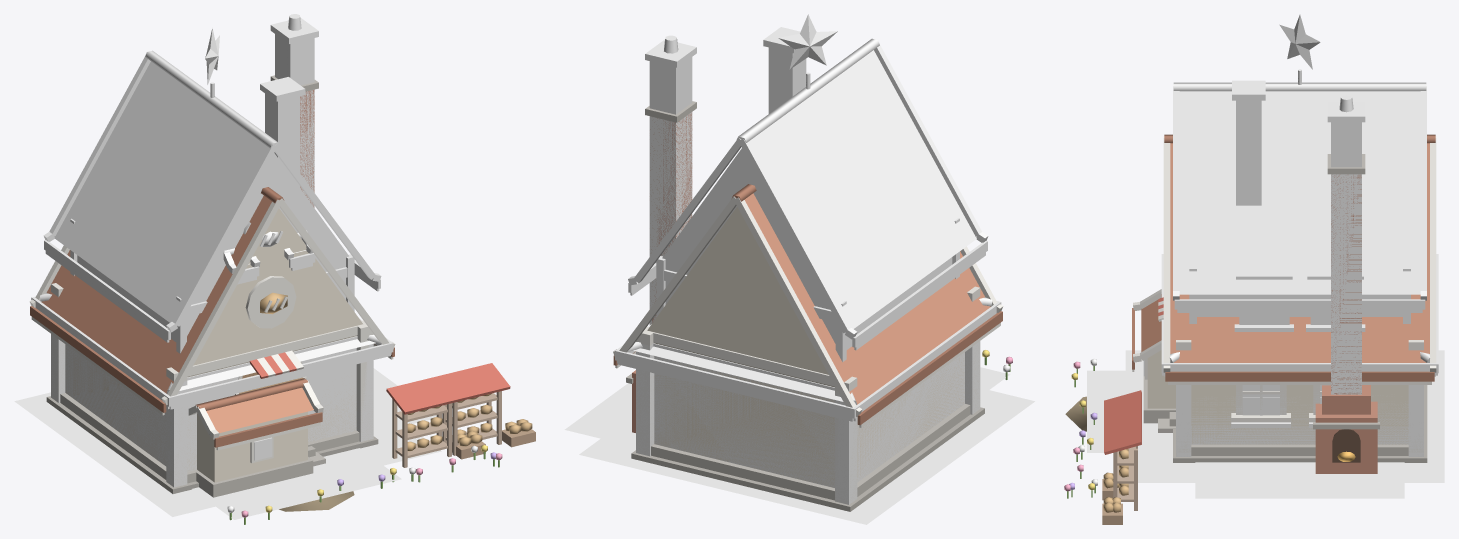
The model's file is bakery_3.glb.
3 renders of one model, left to right at view 1: azimuth 30°, elevation 25°; view 2: azimuth 150°, elevation 25°; view 3: azimuth 270°, elevation 25°, orthographic. The views are drawn at different scales.
Visible parts, largest first — view 1: when_plan_true, body4, bakery_3, body3; view 2: when_plan_true, body4, bakery_3; view 3: when_plan_true, body4, bakery_3, body3.
Boxes of the visible parts, x1,y1,x2,y2 form: when_plan_true: (31, 14, 393, 487); body4: (29, 75, 510, 524); bakery_3: (14, 368, 441, 519); body3: (407, 393, 535, 459); when_plan_true: (615, 14, 1001, 504); body4: (613, 101, 1012, 511); bakery_3: (564, 367, 1034, 524); when_plan_true: (1161, 14, 1438, 456); body4: (1064, 134, 1436, 510); bakery_3: (1087, 350, 1444, 498); body3: (1102, 448, 1128, 524).
Bounding box in the file's own units: 2.8 × 3.03 × 2.6.
